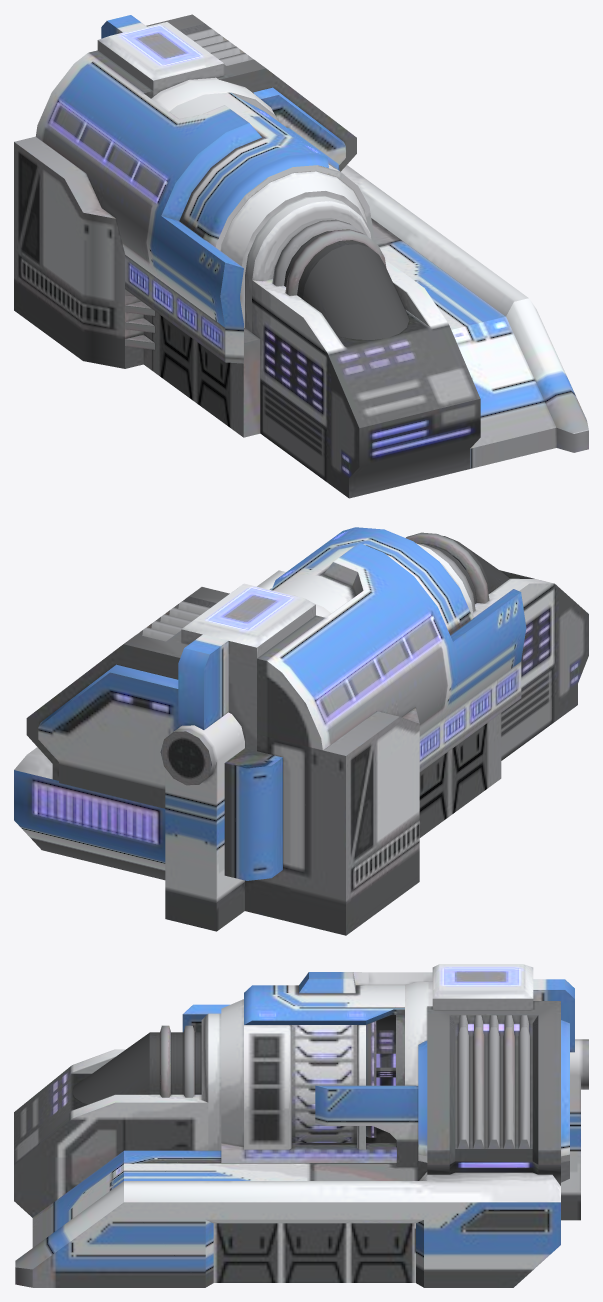
3 renders of one model, top to bottom at view 1: azimuth 30°, elevation 25°; view 2: azimuth 150°, elevation 25°; view 3: azimuth 270°, elevation 25°, orthographic. The views are drawn at different scales.
Parts seen in each view (by area): view 1: fusion-power-station; view 2: fusion-power-station; view 3: fusion-power-station.
Boxes of the visible parts, bbox=[...] form: fusion-power-station: bbox=[14, 14, 588, 498]; fusion-power-station: bbox=[14, 527, 588, 935]; fusion-power-station: bbox=[14, 964, 588, 1287].
Size of the model in its own units: 4.6 by 3.81 by 8.53.
1 material, 1 textured.
